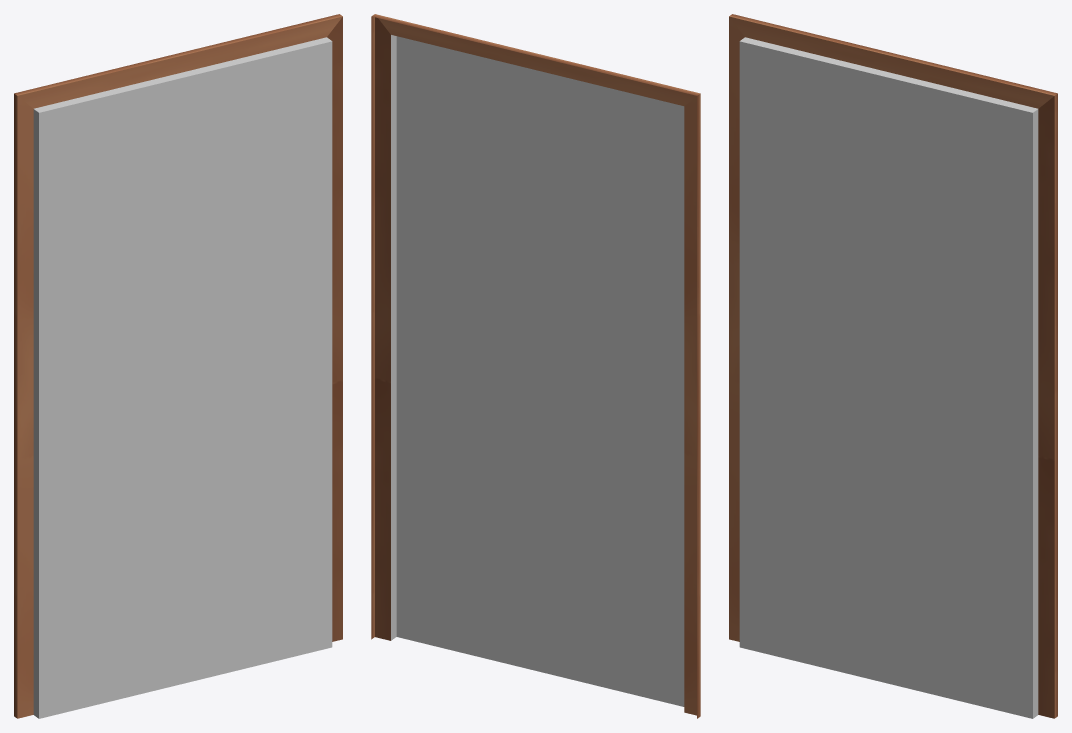
Rendered from door.fbx.
The picture shows the model from 3 angles, left to right: view 1: azimuth 30°, elevation 25°; view 2: azimuth 150°, elevation 25°; view 3: azimuth 330°, elevation 25°; orthographic projection.
Parts seen in each view (by area): view 1: door; view 2: door; view 3: door.
Part boxes in pixels (left/top/right/bottom): door: left=14, top=14, right=342, bottom=718; door: left=371, top=14, right=700, bottom=718; door: left=729, top=14, right=1057, bottom=718.
Bounding box in the file's own units: 100 × 183 × 4.77.
